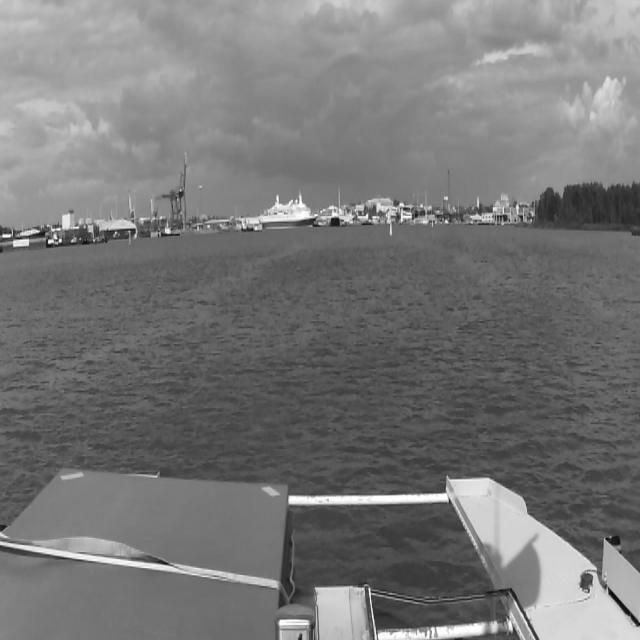buoy: (128, 231, 132, 249), (389, 218, 393, 236)
ship: (259, 194, 315, 231), (312, 204, 356, 226), (331, 210, 341, 228)
